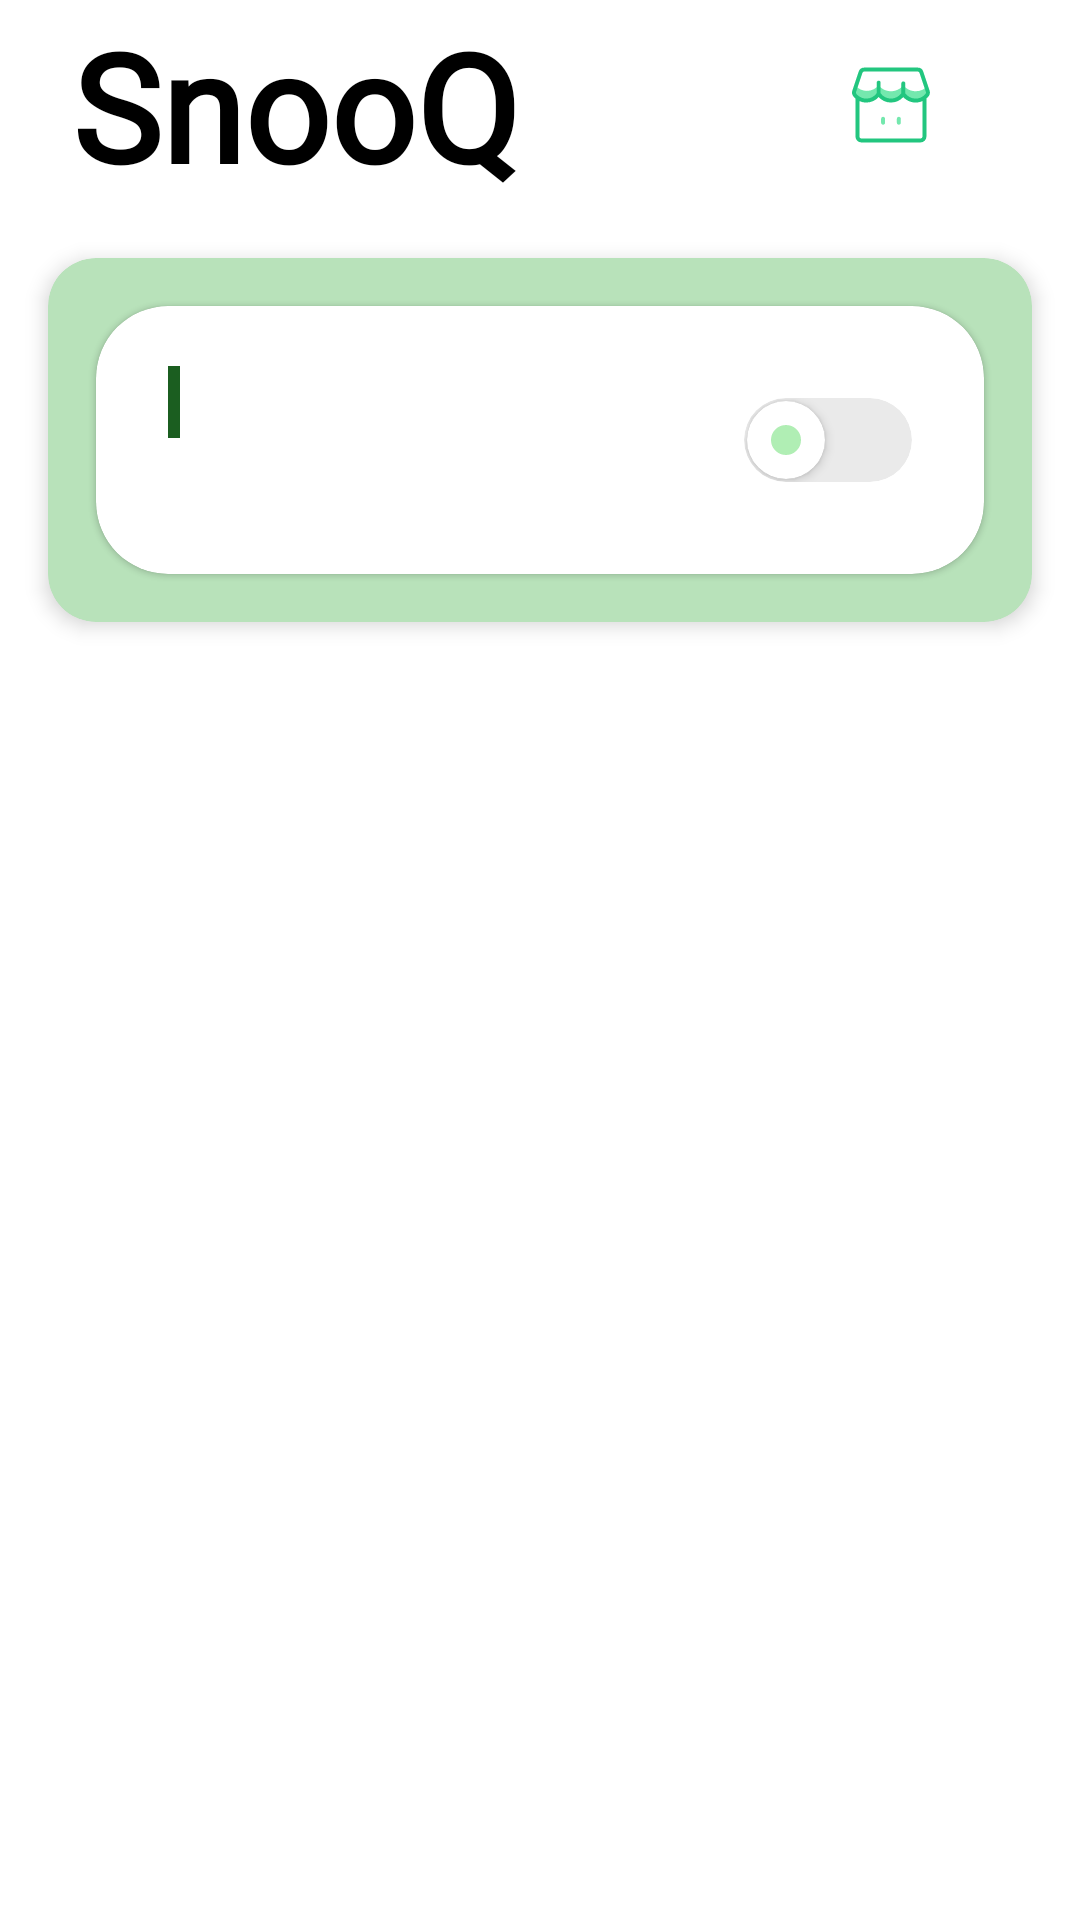

Point at icon controls on the screen. Image size 1080px x 1920px, points as [x,y].
Shop: [891,105]
